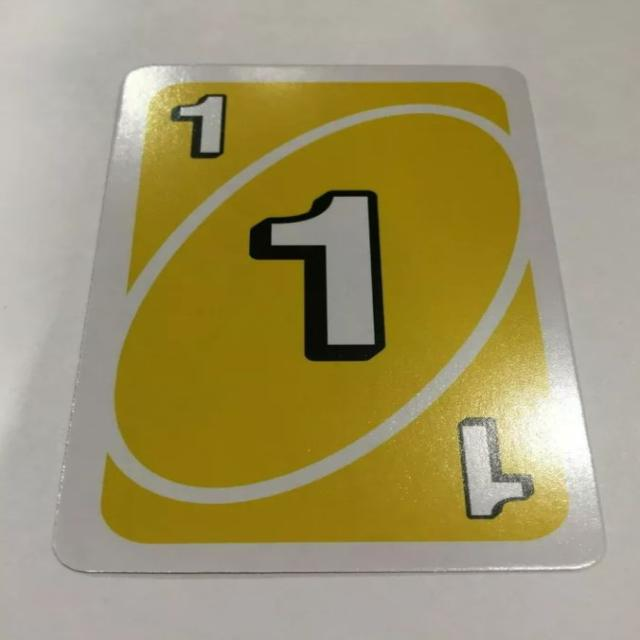Number_1: (161, 84, 238, 169)
Yellow_Card: (97, 76, 586, 550)
